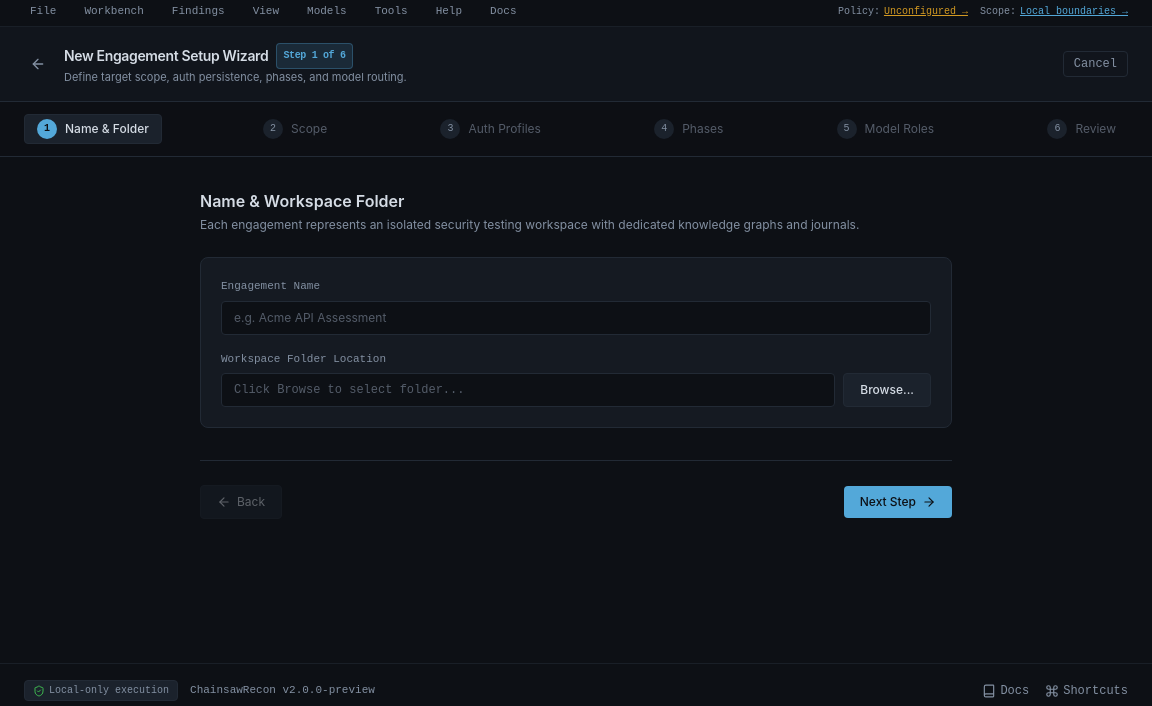
Test: EngagementWizardPage (Milestone 0.5) Tests › Provider Gate blocks progression in Step 5 when no providers are configured
Fill step 1
In the field with placeholder "e.g. Acme API Assessment": (576, 318) [221,300,931,334], type "Blocked Target"
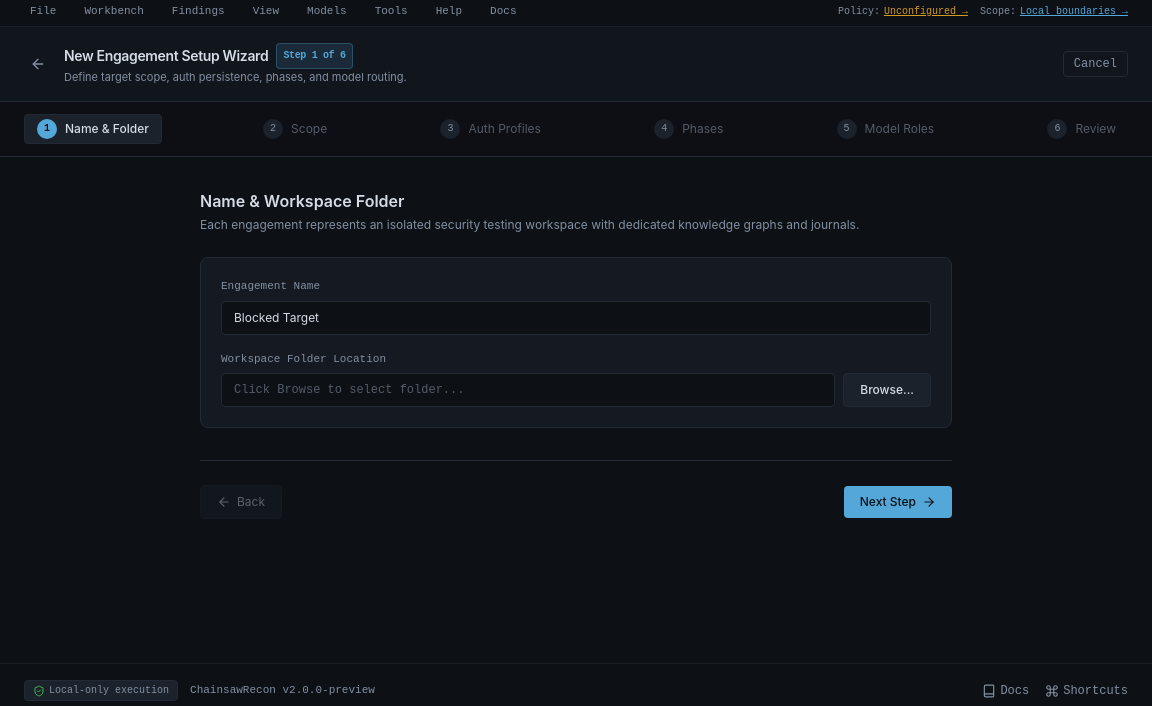
In the field with placeholder "Click Browse to select folder...": (528, 390) [221,373,835,407], type "C:/engagements/blocked"
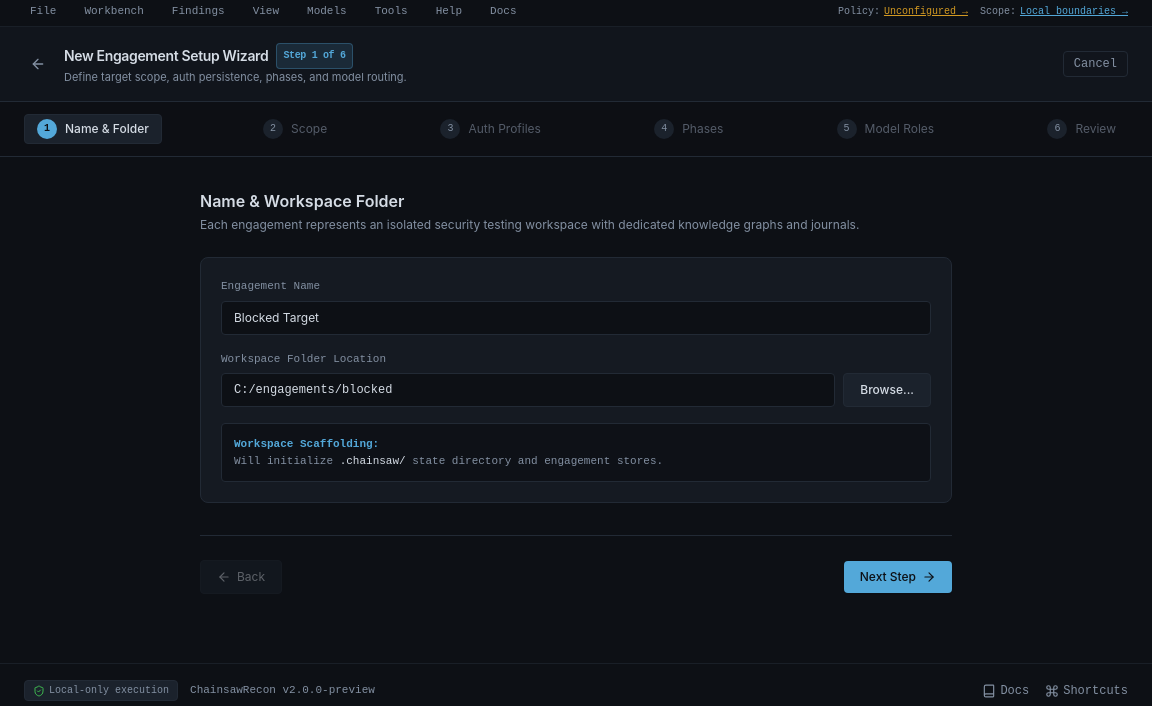
Click the button "Next Step": click(898, 577) [844,561,952,593]
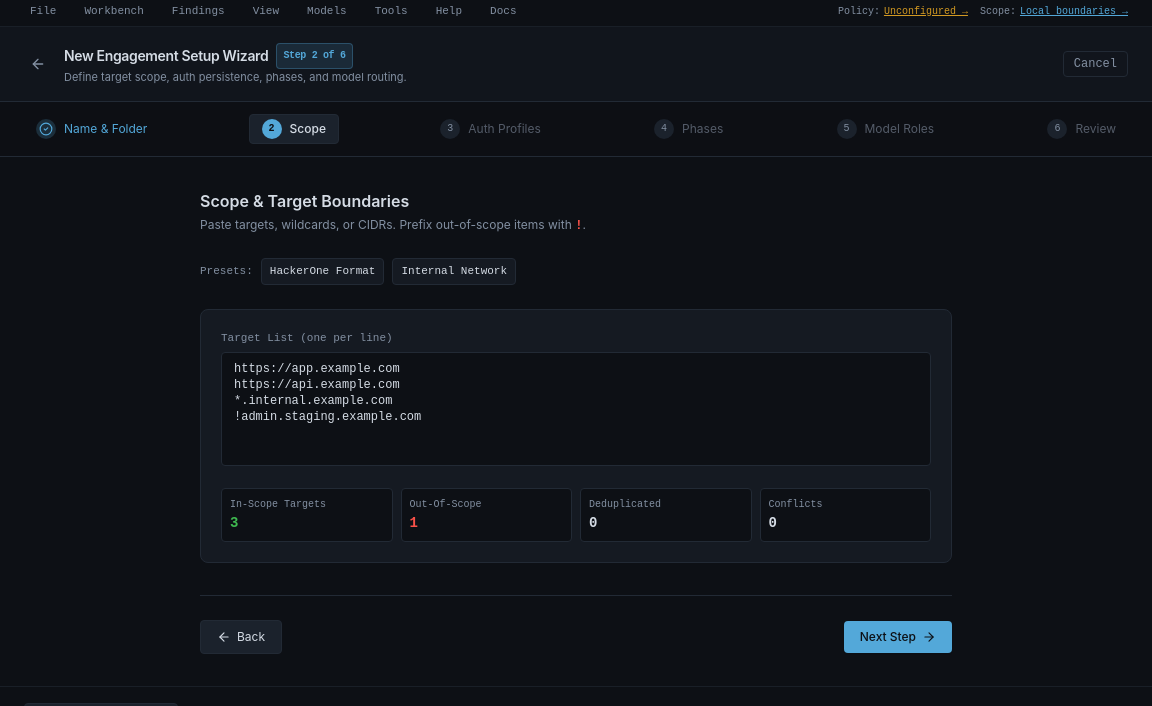
Expected: the heading "Scope & Target Boundaries" is shown, [200,191,409,211]
Click the button "Next Step": click(898, 637) [844,621,952,653]
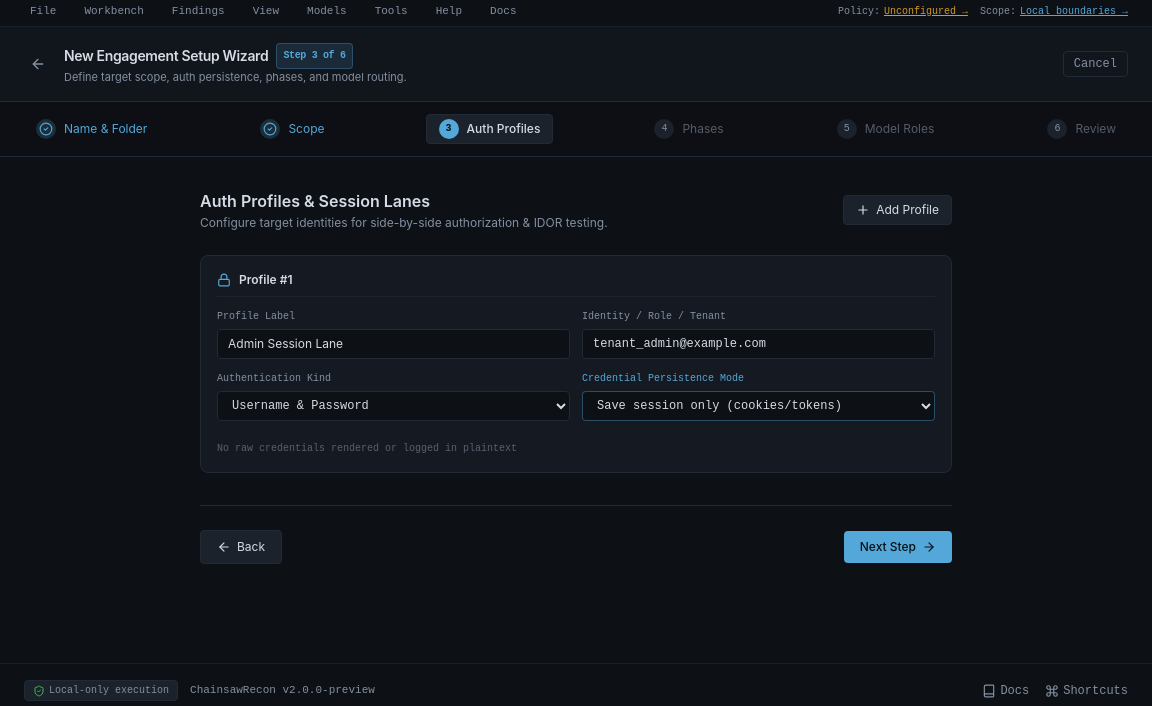
Expected: the heading "Auth Profiles & Session Lanes" is shown, [200,191,430,211]
Click the button "Next Step": click(898, 547) [844,531,952,563]
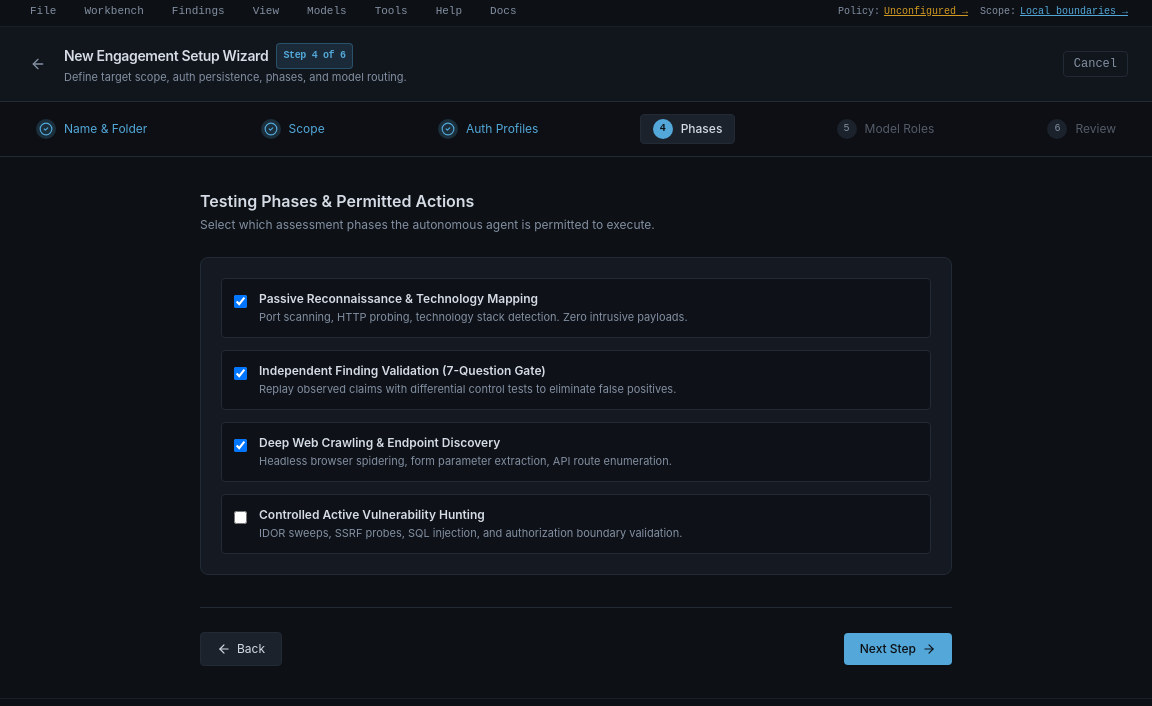
Expected: the heading "Testing Phases & Permitted Actions" is shown, [200,191,474,211]
Click the button "Next Step": click(898, 649) [844,633,952,665]
(page scrolled)
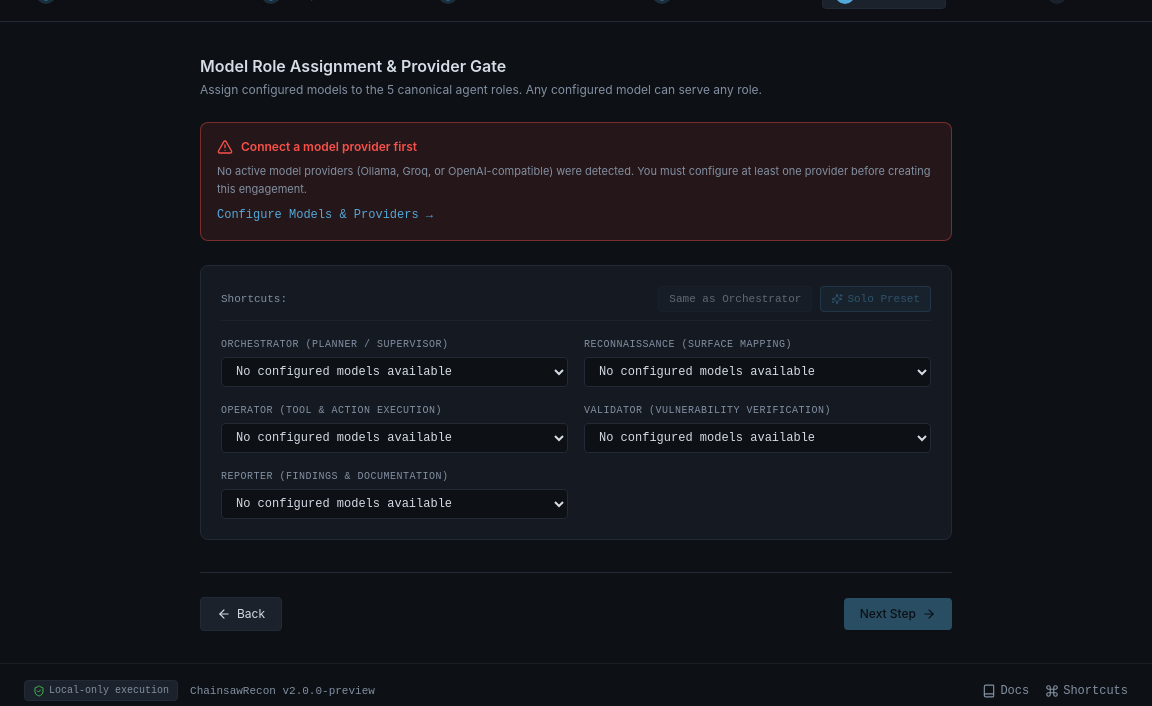
Expected: the text "Connect a model provider first" is shown, [241,139,417,155]
Expected: the button "Next Step" is disabled, [844,598,952,630]
